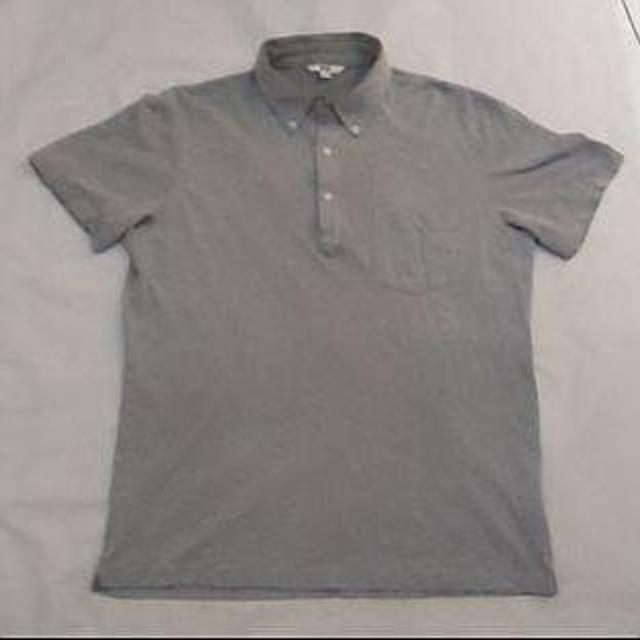T_SHIRT: (21, 19, 629, 610)
